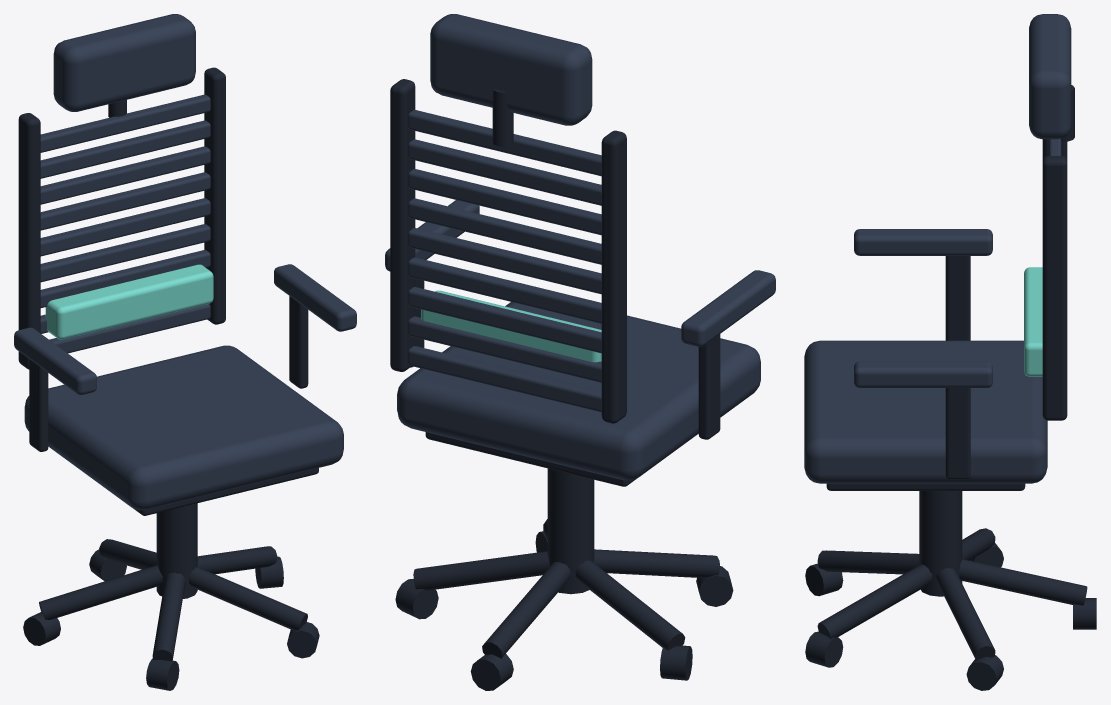
File: chair.gaming.ergonomic.a0b4368c43.glb
3 views of the same model, side by side, from view 1: azimuth 30°, elevation 25°; view 2: azimuth 150°, elevation 25°; view 3: azimuth 270°, elevation 25° (orthographic). The views are drawn at different scales.
Parts seen in each view (by area): view 1: upholstery, frame, accent; view 2: upholstery, frame, accent; view 3: upholstery, frame, accent.
Boxes of the visible parts, bbox=[...] form: upholstery: bbox=[14, 14, 356, 510]; frame: bbox=[18, 67, 319, 690]; accent: bbox=[45, 264, 213, 339]; upholstery: bbox=[385, 14, 775, 480]; frame: bbox=[390, 79, 733, 690]; accent: bbox=[421, 290, 601, 362]; upholstery: bbox=[804, 14, 1071, 483]; frame: bbox=[805, 85, 1096, 690]; accent: bbox=[1024, 267, 1042, 376].
Size of the model in its own units: 0.68 by 1.3 by 0.589.
